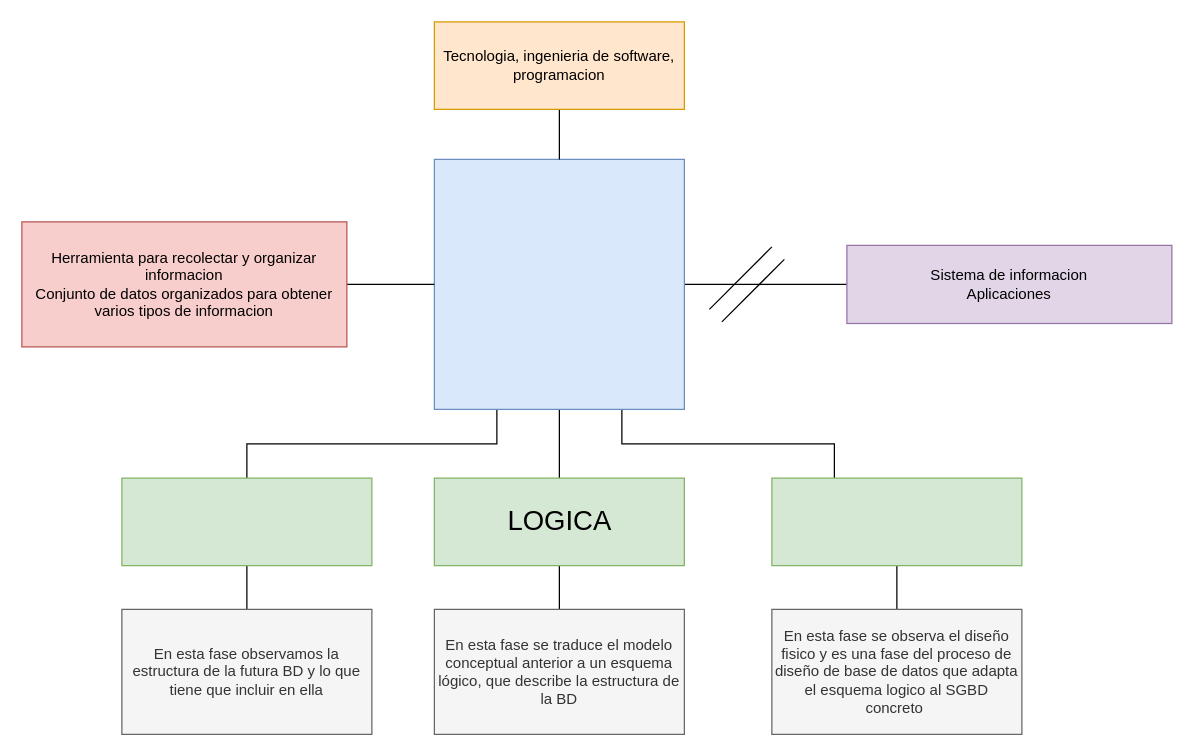
Some shapes in this 1194 by 756 pixel diagram are drawn without their labels. The shapes that lost their labels are listed below. From the top down, each one's centre as x and y in pixels, then its label:
At point (558, 283): "BASE DE DATOS".
At point (246, 521): "CONCEPTUAL".
At point (896, 521): "FISICA".
